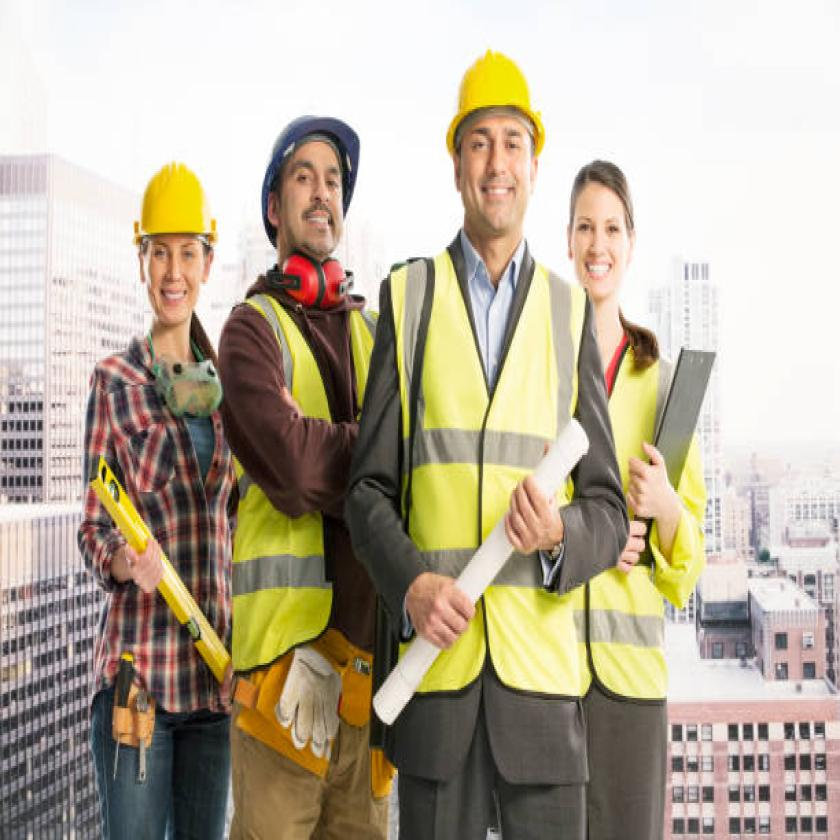Con_casco: (254, 103, 372, 327), (447, 40, 544, 253), (130, 156, 215, 333)
Sin_casco: (566, 147, 640, 314)
